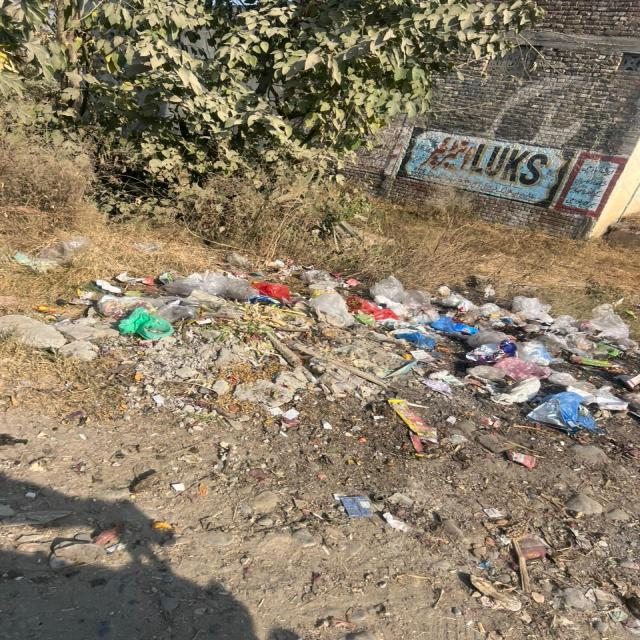garbage: (30, 266, 632, 446)
